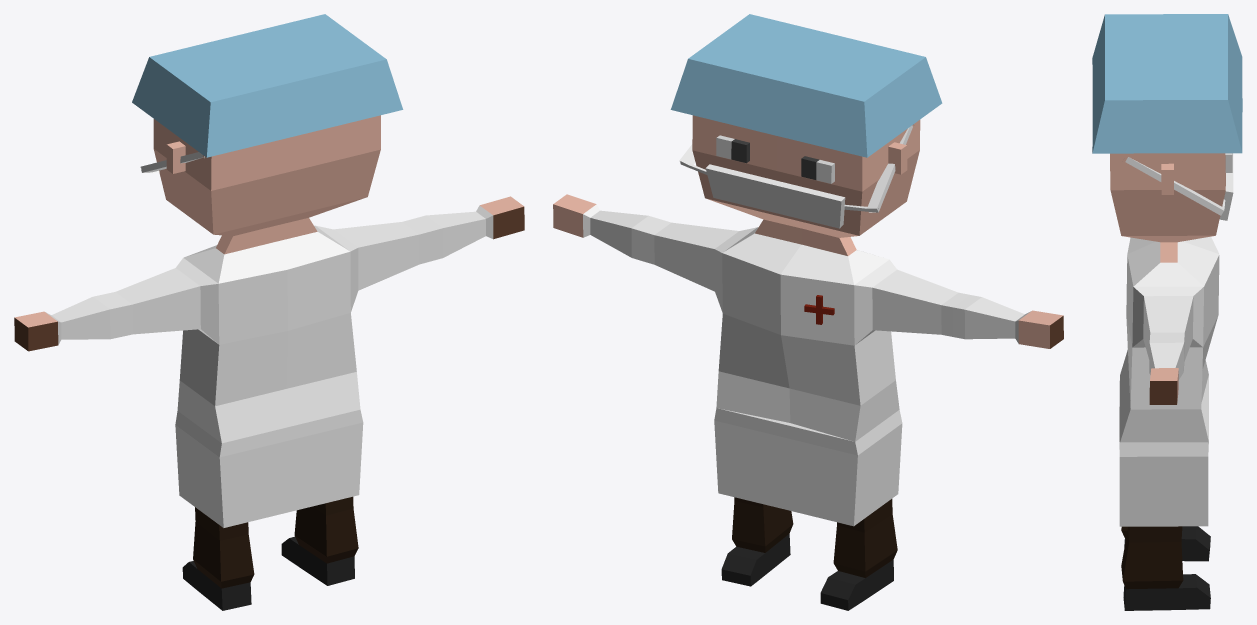
Rendered from DoctorModel.fbx.
The picture shows the model from 3 angles, left to right: view 1: azimuth 30°, elevation 25°; view 2: azimuth 150°, elevation 25°; view 3: azimuth 270°, elevation 25°; orthographic projection.
Visible parts, largest first — view 1: Doctor, Doctor hat; view 2: Doctor, Doctor hat; view 3: Doctor, Doctor hat.
Part boxes in pixels (left/top/right/bottom): Doctor: left=14, top=115, right=524, bottom=610; Doctor hat: left=132, top=14, right=403, bottom=157; Doctor: left=553, top=115, right=1063, bottom=610; Doctor hat: left=670, top=14, right=942, bottom=157; Doctor: left=1110, top=153, right=1233, bottom=610; Doctor hat: left=1092, top=14, right=1242, bottom=153.
Bounding box in the file's own units: 58.85 × 59.11 × 15.4.
